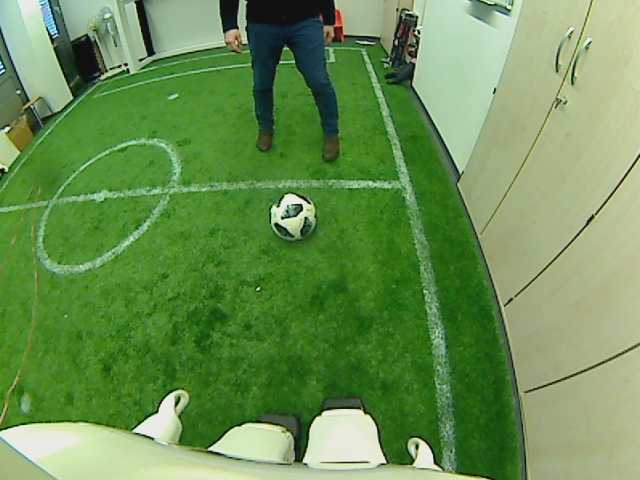ball: (268, 190, 317, 241)
